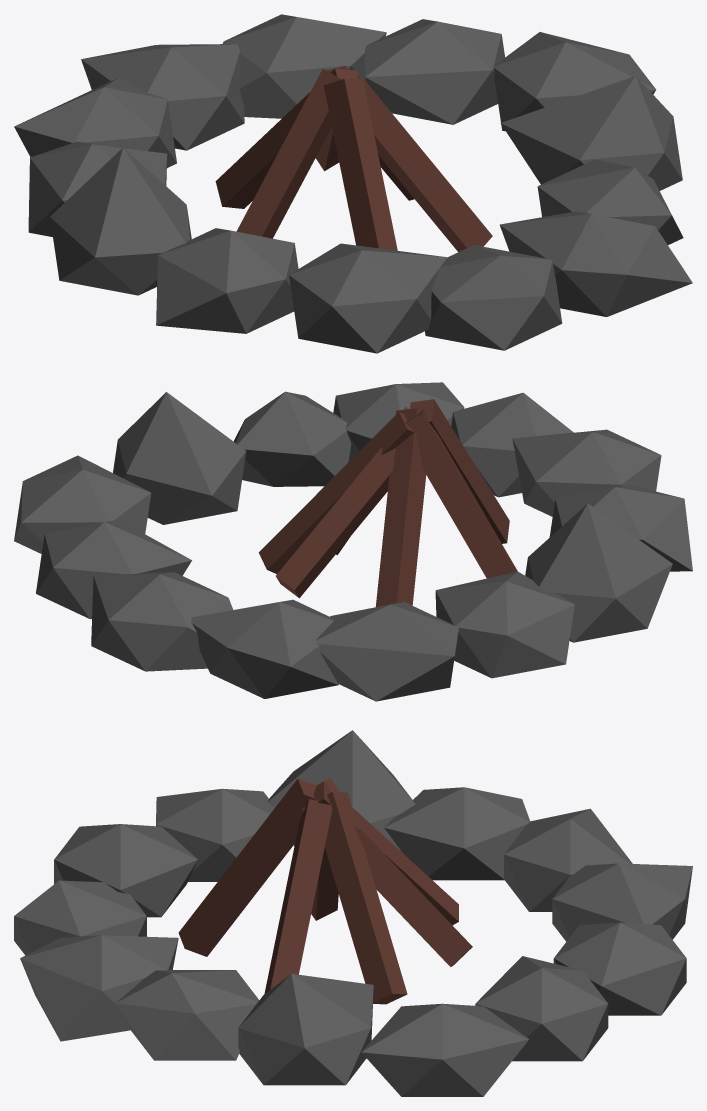
File: Campfire.fbx
3 renders of one model, top to bottom at view 1: azimuth 30°, elevation 25°; view 2: azimuth 150°, elevation 25°; view 3: azimuth 270°, elevation 25°, orthographic. The views are drawn at different scales.
Parts seen in each view (by area): view 1: Icosphere.001, Icosphere.006, Icosphere.007, Icosphere.009, Icosphere.002, Icosphere.011, Icosphere.005, Icosphere.004, Icosphere.012, Icosphere.003, Icosphere.010, Cube.005 (+6 smaller); view 2: Icosphere.001, Icosphere.009, Icosphere, Icosphere.003, Icosphere.012, Icosphere.004, Icosphere.008, Icosphere.006, Icosphere.011, Icosphere.010, Icosphere.005, Cube.001 (+6 smaller); view 3: Icosphere.009, Icosphere.010, Icosphere.007, Icosphere.008, Icosphere, Icosphere.011, Icosphere.012, Icosphere.006, Icosphere.004, Cube.004, Icosphere.003, Cube.005 (+7 smaller).
Boxes of the visible parts, x1,y1,x2,y2 form: Icosphere.001: (50, 147, 191, 295); Icosphere.006: (289, 243, 447, 353); Icosphere.007: (500, 211, 692, 316); Icosphere.009: (500, 76, 682, 190); Icosphere.002: (156, 228, 298, 333); Icosphere.011: (365, 19, 504, 124); Icosphere.005: (425, 245, 562, 350); Icosphere.004: (81, 44, 244, 150); Icosphere.012: (222, 14, 386, 118); Icosphere.003: (14, 78, 176, 167); Icosphere.010: (493, 32, 656, 131); Cube.005: (323, 77, 397, 250); Icosphere.001: (525, 503, 672, 642); Icosphere.009: (113, 392, 246, 524); Icosphere: (435, 571, 574, 678); Icosphere.003: (315, 602, 458, 701); Icosphere.012: (91, 572, 233, 671); Icosphere.004: (191, 599, 338, 698); Icosphere.008: (233, 391, 351, 486); Icosphere.006: (512, 429, 661, 516); Icosphere.011: (36, 519, 191, 619); Icosphere.010: (14, 455, 151, 553); Icosphere.005: (451, 392, 573, 497); Cube.001: (375, 408, 426, 606); Icosphere.009: (238, 973, 373, 1085); Icosphere.010: (361, 1003, 528, 1096); Icosphere.007: (20, 935, 178, 1041); Icosphere.008: (116, 970, 259, 1060); Icosphere: (384, 787, 529, 880); Icosphere.011: (475, 956, 608, 1061); Icosphere.012: (553, 922, 686, 1015); Icosphere.006: (54, 824, 197, 917); Icosphere.004: (552, 863, 692, 941); Cube.004: (325, 792, 407, 1004); Icosphere.003: (504, 808, 632, 911); Cube.005: (178, 778, 315, 956).
Size of the model in its own units: 867 by 266 by 870.
